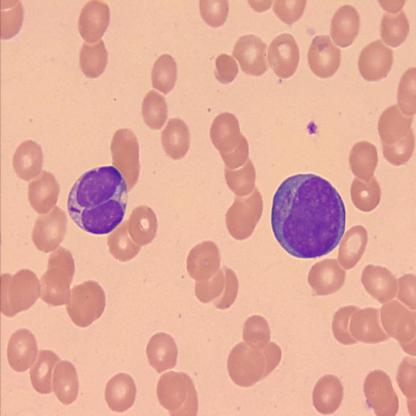Blast: (269, 170, 348, 261), (66, 165, 128, 236)
